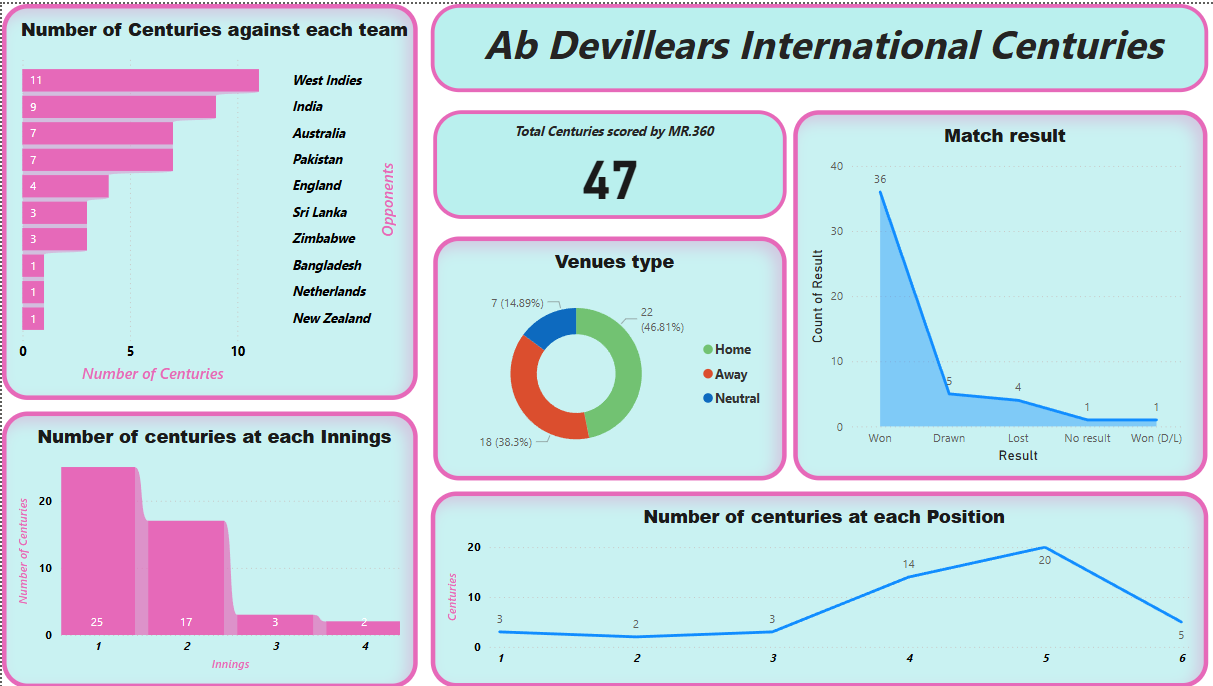

The page's visual inventory and layout, read from the dashboard file:
{"tool":"powerbi","page":{"name":"Page 1","canvas":[1280,720],"ordinal":0},"visuals":[{"type":"columnChart","title":"Number of centuries at each Innings","fields":{"Category":["AB-de-Villiers-All-International-Cricket-Centuries.Innings"],"Y":["AB-de-Villiers-All-International-Cricket-Centuries.Score"]},"box":[0,429,437.2,291],"z":0},{"type":"barChart","title":"Number of Centuries against each team","fields":{"Category":["AB-de-Villiers-All-International-Cricket-Centuries.Against"],"Y":["AB-de-Villiers-All-International-Cricket-Centuries.Against"]},"box":[0,0,437.2,416.7],"z":1000},{"type":"lineChart","title":"Number of centuries at each Position","fields":{"Category":["AB-de-Villiers-All-International-Cricket-Centuries.Position"],"Y":["AB-de-Villiers-All-International-Cricket-Centuries.Against"]},"box":[450.9,513.8,818.4,206.3],"z":2000},{"type":"donutChart","title":"Venues type","fields":{"Y":["AB-de-Villiers-All-International-Cricket-Centuries.Ground"],"Category":["AB-de-Villiers-All-International-Cricket-Centuries.Ground"]},"box":[453.6,244.6,371.6,256.9],"z":3000},{"type":"areaChart","title":"Match result","fields":{"Category":["AB-de-Villiers-All-International-Cricket-Centuries.Result"],"Y":["AB-de-Villiers-All-International-Cricket-Centuries.Result"]},"box":[833.5,112,435.9,389.4],"z":4000},{"type":"card","title":"Ab Devillears International Centuries","fields":{"Values":["AB-de-Villiers-All-International-Cricket-Centuries.Against"]},"box":[450.9,0,818.4,92.9],"z":5000},{"type":"card","title":"Total Centuries scored by MR.360","fields":{"Values":["AB-de-Villiers-All-International-Cricket-Centuries.No."]},"box":[453.6,112,371.6,114.8],"z":5001}]}

Visuals, with their boxes in screenshot pixels (x1, y1, x2, y2), scaled from the page's 1280x720 canvas onto the 1213x686 screenshot:
"Number of centuries at each Innings" columnChart: 0/409/414/685
"Number of Centuries against each team" barChart: 0/0/414/397
"Number of centuries at each Position" lineChart: 427/490/1203/685
"Venues type" donutChart: 430/233/782/478
"Match result" areaChart: 790/107/1203/478
"Ab Devillears International Centuries" card: 427/0/1203/89
"Total Centuries scored by MR.360" card: 430/107/782/216
